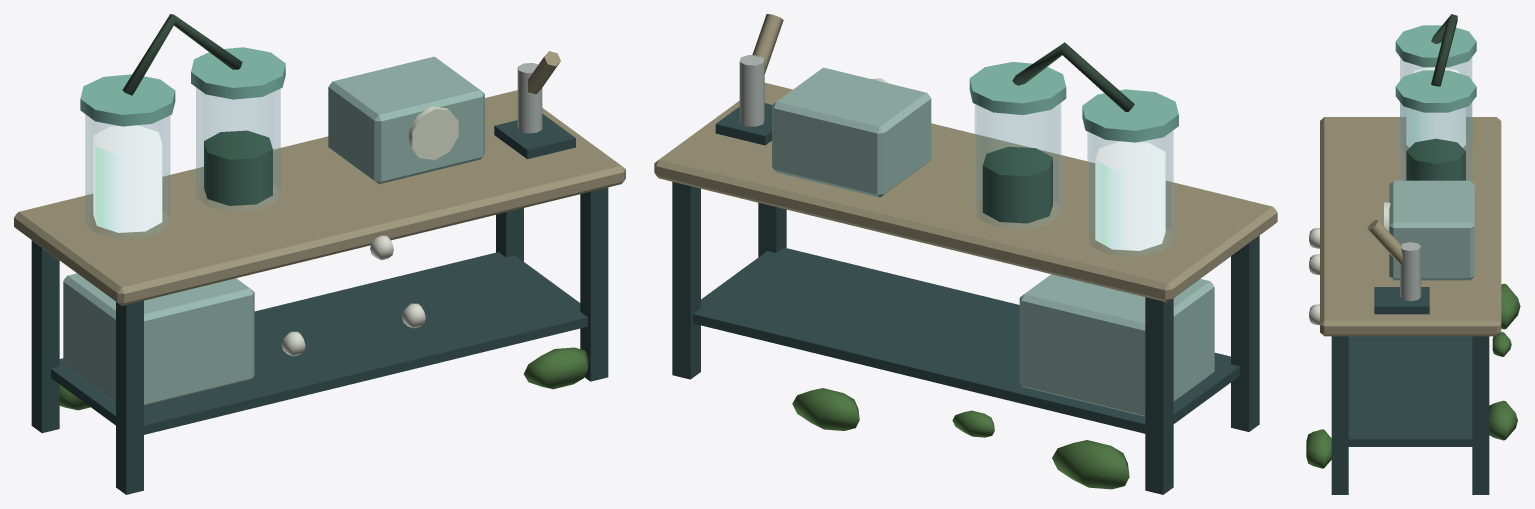
File: dr_bench.glb
3 views of the same model, side by side, from view 1: azimuth 30°, elevation 25°; view 2: azimuth 150°, elevation 25°; view 3: azimuth 270°, elevation 25° (orthographic). The views are drawn at different scales.
Parts seen in each view (by area): view 1: dr_bench; view 2: dr_bench; view 3: dr_bench.
Boxes of the visible parts, x1,y1,x2,y2 form: dr_bench: (14, 14, 625, 494); dr_bench: (654, 14, 1277, 494); dr_bench: (1306, 14, 1520, 494).
Bounding box in the file's own units: 2.3 × 1.76 × 1.
